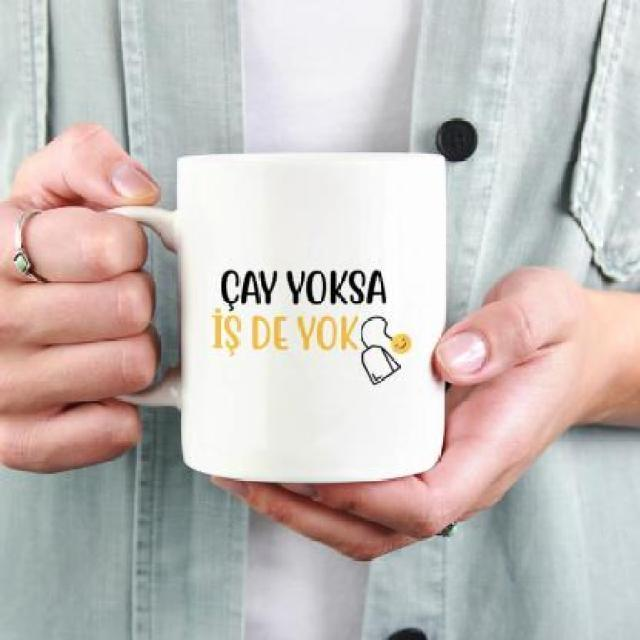taza: (75, 135, 461, 489)
